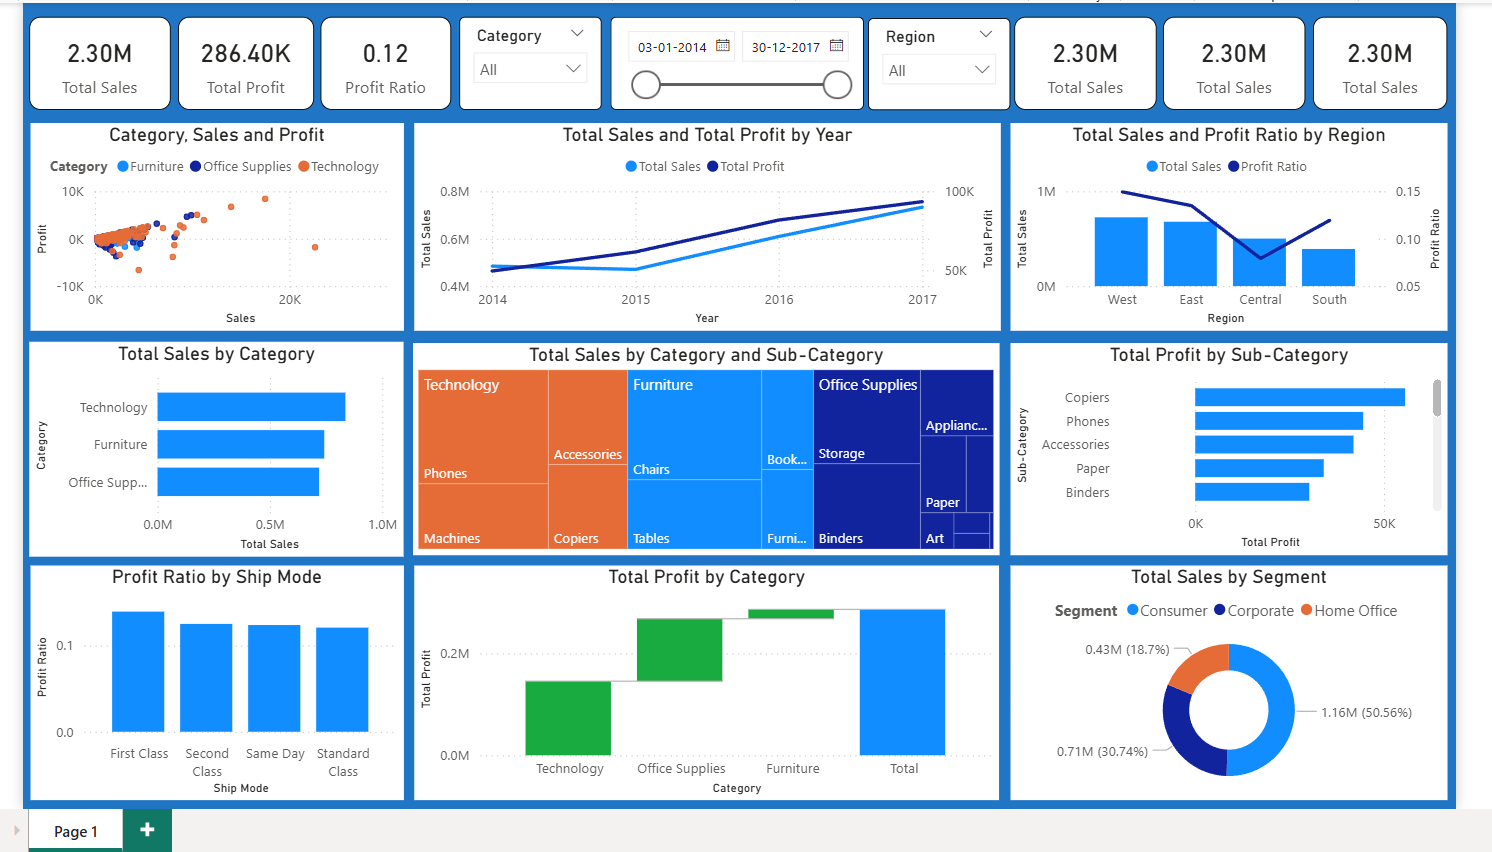

Layout of this report page (visuals, bound fields, positions):
{"tool":"powerbi","page":{"name":"Page 1","canvas":[1280,720],"ordinal":0},"visuals":[{"type":"card","fields":{"Values":["Sample - Superstore.Total Sales"]},"box":[6,11.9,126.2,83.3],"z":0},{"type":"card","fields":{"Values":["Sample - Superstore.Profit Ratio"]},"box":[266.1,11.9,116.7,83.3],"z":1},{"type":"card","fields":{"Values":["Sample - Superstore.Total Profit"]},"box":[138.4,11.9,121.4,83.3],"z":2},{"type":"card","fields":{"Values":["Sample - Superstore.Total Sales"]},"box":[1018.8,11.9,127.4,83.3],"z":3},{"type":"card","fields":{"Values":["Sample - Superstore.Total Sales"]},"box":[885.1,11.9,127.4,83.3],"z":4},{"type":"card","fields":{"Values":["Sample - Superstore.Total Sales"]},"box":[1152.4,11.9,120.2,83.3],"z":5},{"type":"slicer","fields":{"Values":["Sample - Superstore.Category"]},"box":[389.3,11.9,127.4,83.3],"z":6},{"type":"slicer","fields":{"Values":["Sample - Superstore.Region"]},"box":[754.8,13.1,127.4,82.1],"z":7},{"type":"slicer","fields":{"Values":["Sample - Superstore.Order Date"]},"box":[525,11.9,226.2,83.3],"z":8},{"type":"lineChart","fields":{"Category":["Sample - Superstore.Order Date.Variation.Date Hierarchy.Year"],"Y":["Sample - Superstore.Total Sales"],"Y2":["Sample - Superstore.Total Profit"]},"box":[349.8,107.1,523.8,185.7],"z":9},{"type":"treemap","fields":{"Group":["Sample - Superstore.Category"],"Details":["Sample - Superstore.Sub-Category"],"Values":["Sample - Superstore.Total Sales"]},"box":[348.6,303.6,523.8,189.3],"z":10},{"type":"waterfallChart","fields":{"Category":["Sample - Superstore.Category"],"Y":["Sample - Superstore.Total Profit"]},"box":[349.8,502.4,522.6,209.5],"z":11},{"type":"clusteredBarChart","fields":{"Y":["Sample - Superstore.Total Sales"],"Category":["Sample - Superstore.Category"]},"box":[6,302.4,334.5,191.7],"z":12},{"type":"clusteredBarChart","fields":{"Category":["Sample - Superstore.Sub-Category"],"Y":["Sample - Superstore.Total Profit"]},"box":[882.1,303.6,390.5,189.3],"z":13},{"type":"donutChart","fields":{"Y":["Sample - Superstore.Total Sales"],"Category":["Sample - Superstore.Segment"]},"box":[882.1,502.4,390.5,209.5],"z":14},{"type":"scatterChart","fields":{"X":["Sample - Superstore.Sales"],"Y":["Sample - Superstore.Profit"],"Series":["Sample - Superstore.Category"]},"box":[7.1,107.1,333.3,185.7],"z":15},{"type":"clusteredColumnChart","fields":{"Category":["Sample - Superstore.Ship Mode"],"Y":["Sample - Superstore.Profit Ratio"]},"box":[7.1,502.4,333.3,209.5],"z":16},{"type":"lineClusteredColumnComboChart","fields":{"Category":["Sample - Superstore.Region"],"Y":["Sample - Superstore.Total Sales"],"Y2":["Sample - Superstore.Profit Ratio"]},"box":[882.1,107.1,390.5,185.7],"z":17}]}

Visuals, with their boxes in screenshot pixels (x1, y1, x2, y2):
card - Sample - Superstore.Total Sales: [34,17,174,109]
card - Sample - Superstore.Profit Ratio: [322,17,452,109]
card - Sample - Superstore.Total Profit: [181,17,315,109]
card - Sample - Superstore.Total Sales: [1157,17,1298,109]
card - Sample - Superstore.Total Sales: [1009,17,1150,109]
card - Sample - Superstore.Total Sales: [1305,17,1438,109]
slicer - Sample - Superstore.Category: [459,17,600,109]
slicer - Sample - Superstore.Region: [864,18,1005,109]
slicer - Sample - Superstore.Order Date: [609,17,860,109]
lineChart - Sample - Superstore.Order Date.Variation.Date Hierarchy.Year x Sample - Superstore.Total Sales: [415,123,996,329]
treemap - Sample - Superstore.Category x Sample - Superstore.Sub-Category: [414,341,994,550]
waterfallChart - Sample - Superstore.Category x Sample - Superstore.Total Profit: [415,561,994,793]
clusteredBarChart - Sample - Superstore.Total Sales x Sample - Superstore.Category: [34,339,405,552]
clusteredBarChart - Sample - Superstore.Sub-Category x Sample - Superstore.Total Profit: [1005,341,1438,550]
donutChart - Sample - Superstore.Total Sales x Sample - Superstore.Segment: [1005,561,1438,793]
scatterChart - Sample - Superstore.Sales x Sample - Superstore.Profit: [35,123,405,329]
clusteredColumnChart - Sample - Superstore.Ship Mode x Sample - Superstore.Profit Ratio: [35,561,405,793]
lineClusteredColumnComboChart - Sample - Superstore.Region x Sample - Superstore.Total Sales: [1005,123,1438,329]
